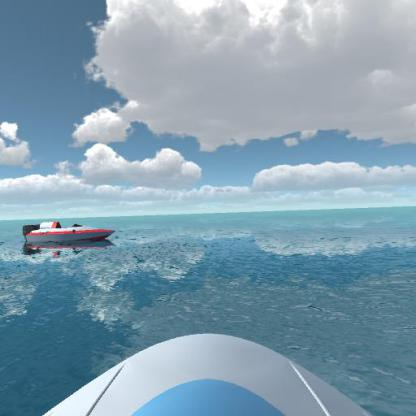usv3: (18, 217, 119, 256)
